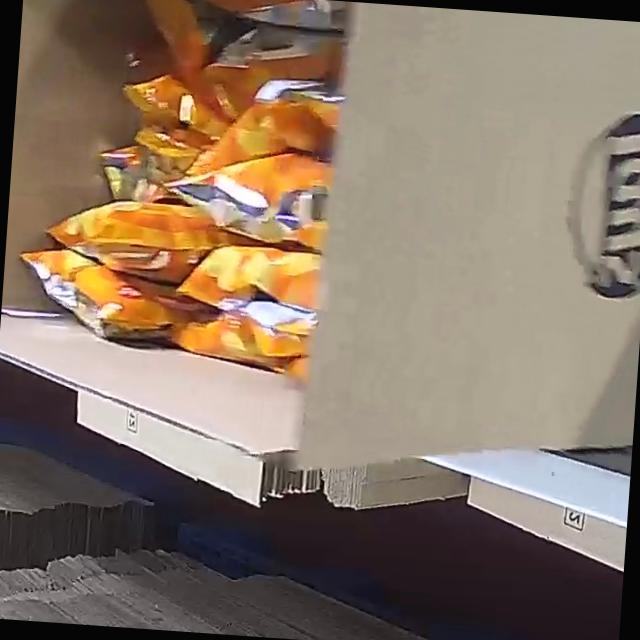cheese: (0, 0, 327, 395)
